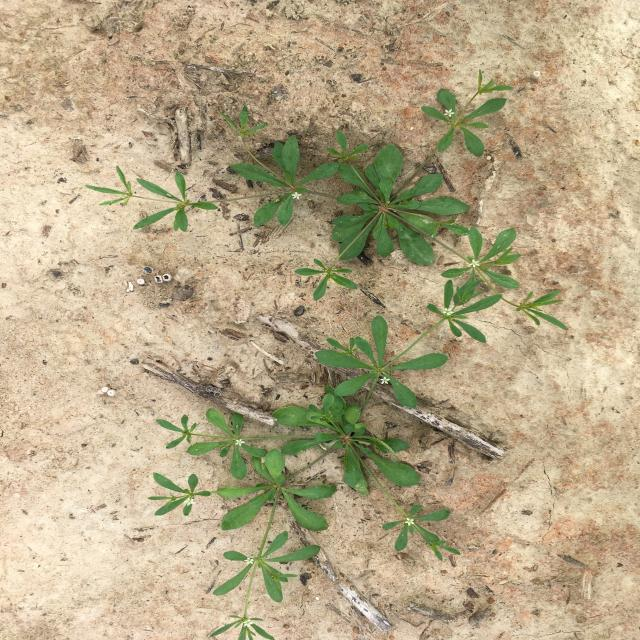Carpetweed: (148, 280, 503, 640), (85, 69, 569, 331)
